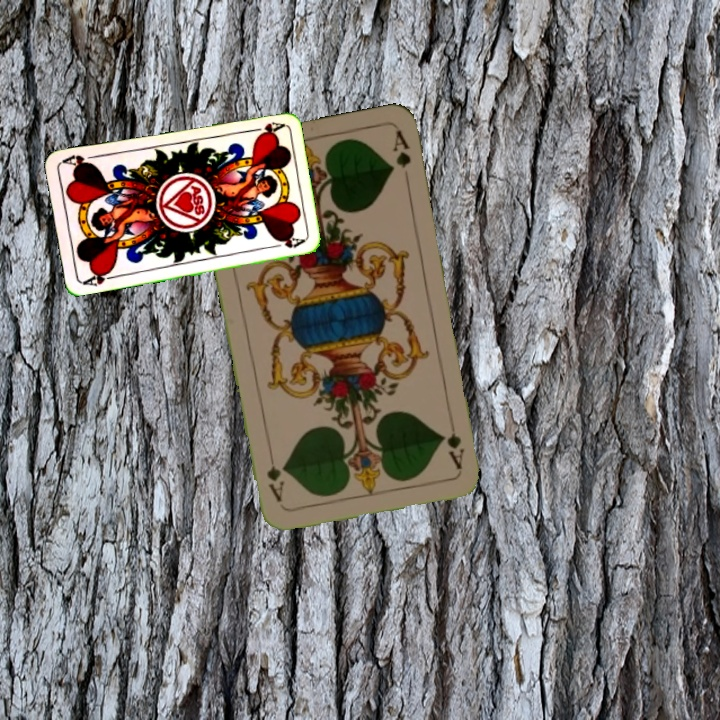GA: (443, 413, 467, 472)
HA: (79, 266, 120, 289), (245, 118, 285, 137)
